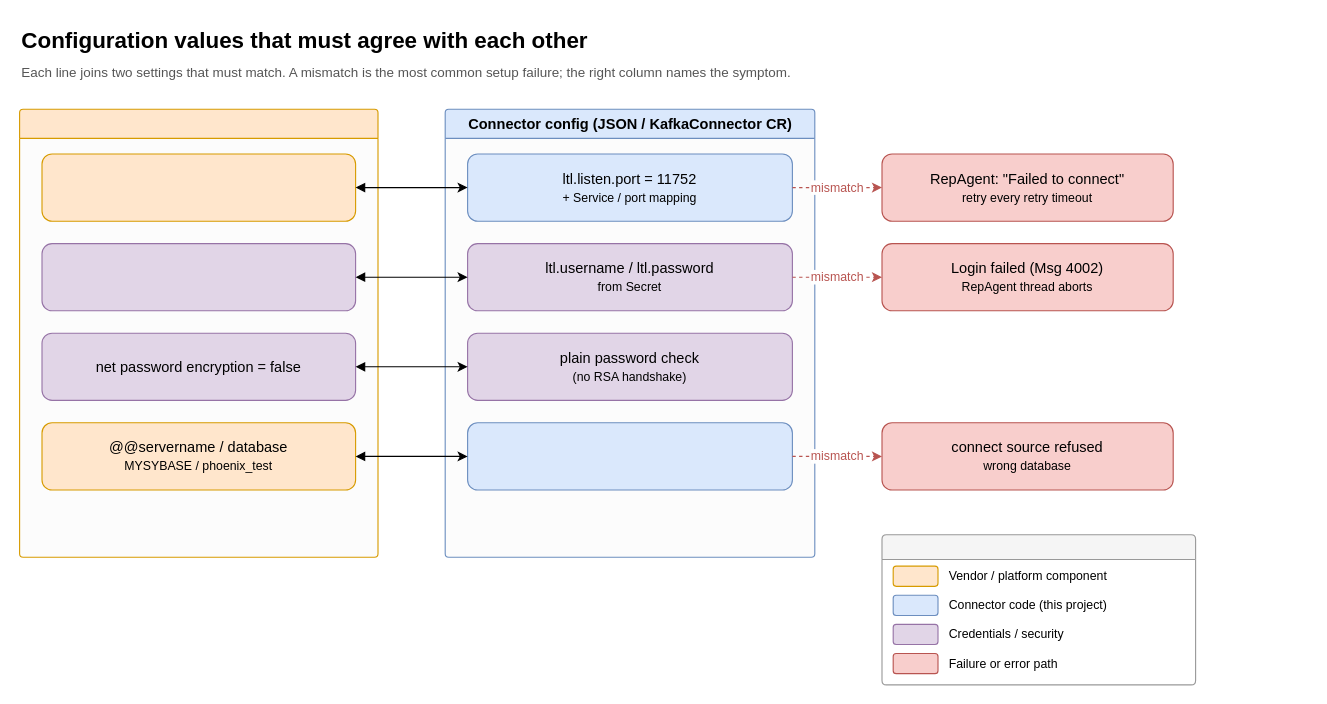
This 1327x704 diagram has some shape labels left out. The shapes that lost their labels are listed below. From the top down, each one's box as (x1, y1, x2, y2) in pixels, then its label:
(41, 153, 356, 221): interfaces: CDC_RS host connect, port 11752
(41, 242, 356, 311): sp_config_rep_agent ... 'enable' 'CDC_RS', 'rs_user', '<password>'
(18, 108, 378, 557): ASE side (DBA)
(466, 422, 792, 490): database.server.name database.name
(881, 534, 1196, 685): Legend
